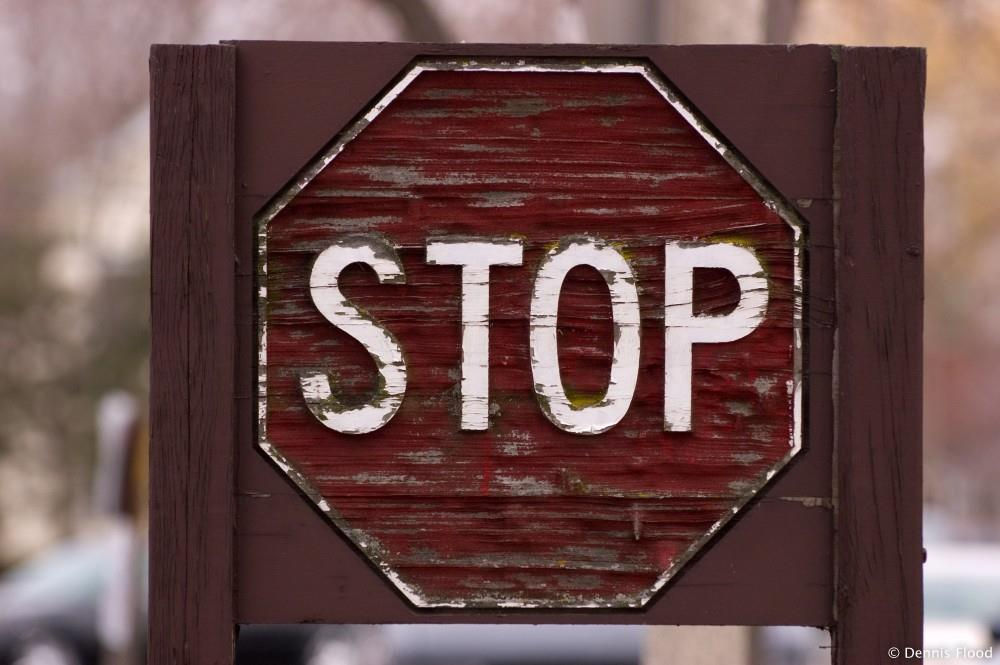stop_sign: (275, 58, 798, 606)
